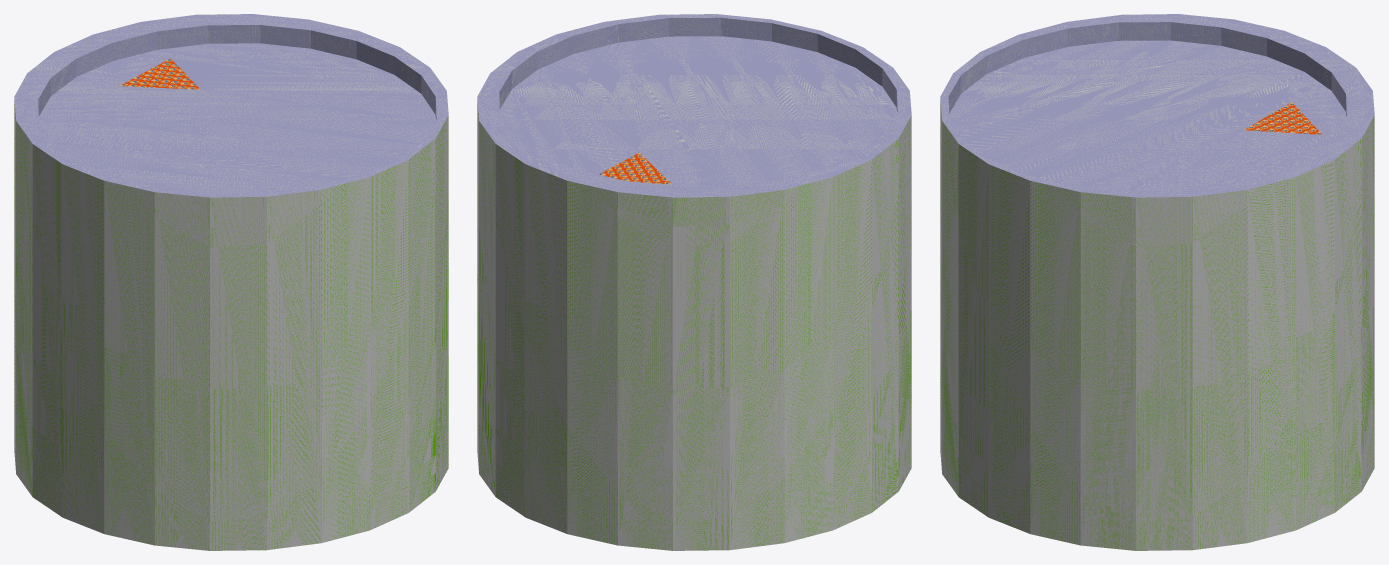
3 views of the same model, side by side, from view 1: azimuth 30°, elevation 25°; view 2: azimuth 150°, elevation 25°; view 3: azimuth 270°, elevation 25° (orthographic).
Parts seen in each view (by area): view 1: mesh1_mesh1-geometry; view 2: mesh1_mesh1-geometry; view 3: mesh1_mesh1-geometry.
Part boxes in pixels (box(x1,y1,x2,y2)): mesh1_mesh1-geometry: box(14, 14, 448, 550); mesh1_mesh1-geometry: box(477, 14, 911, 550); mesh1_mesh1-geometry: box(940, 14, 1374, 550).
Size of the model in its own units: 0.597 by 0.5358 by 0.597.
